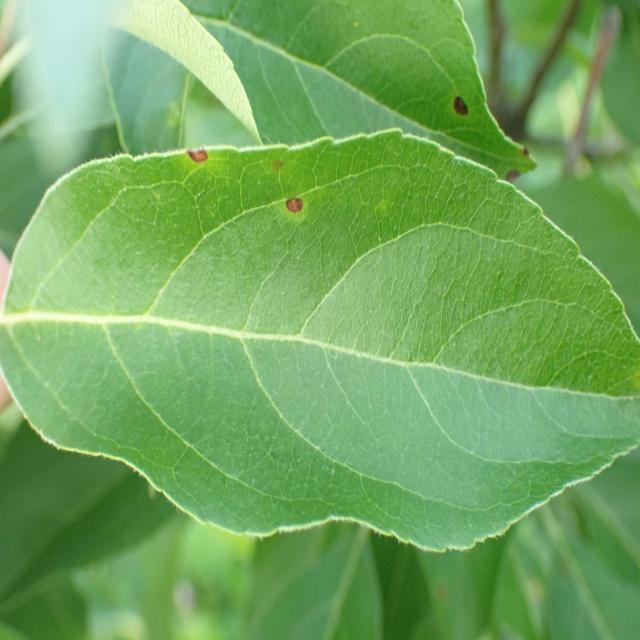frog-eye-leaf-spot: (0, 128, 640, 552), (183, 0, 539, 182)
